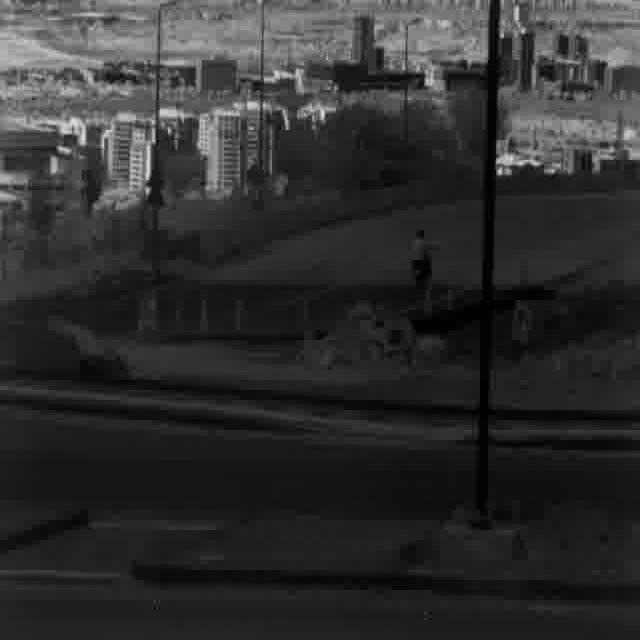Motorcycle: (408, 228, 440, 292)
